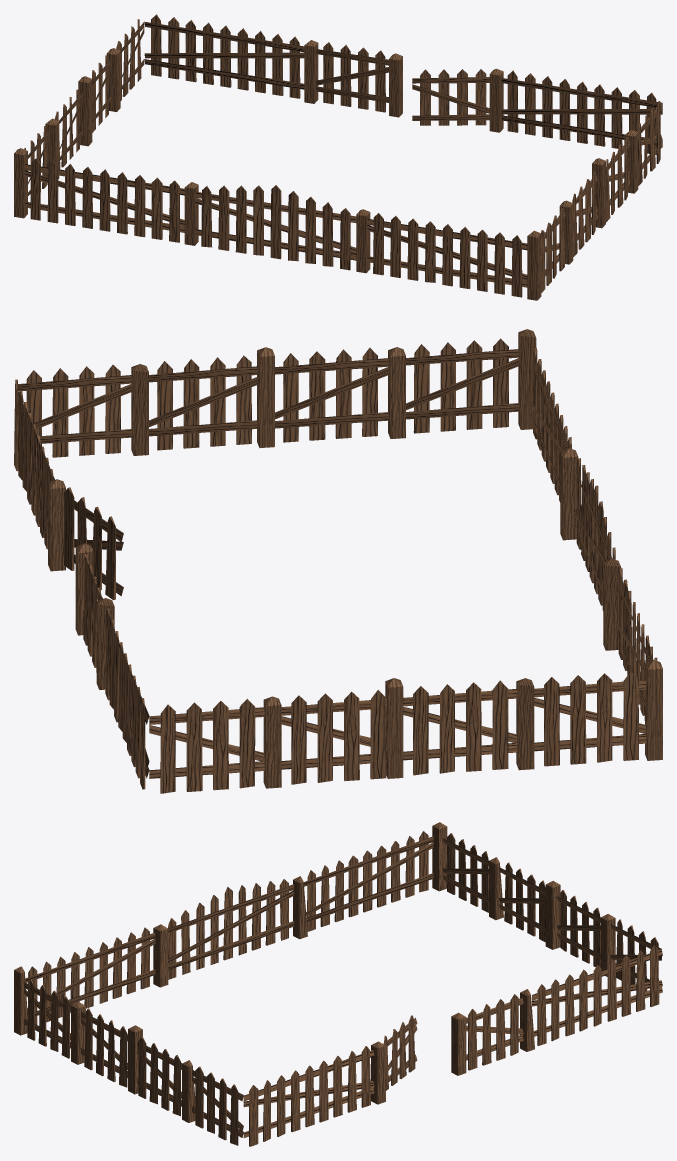
The model's file is FenceStyle1High.004_LOD1.fbx.
The picture shows the model from 3 angles, top to bottom: view 1: azimuth 30°, elevation 25°; view 2: azimuth 150°, elevation 25°; view 3: azimuth 270°, elevation 25°; orthographic projection. The views are drawn at different scales.
Visible parts, largest first — view 1: FenceStyle1High_004; view 2: FenceStyle1High_004; view 3: FenceStyle1High_004.
Boxes of the visible parts, left/top/right/bottom form: FenceStyle1High_004: left=14, top=14, right=662, bottom=300; FenceStyle1High_004: left=14, top=329, right=662, bottom=793; FenceStyle1High_004: left=14, top=822, right=662, bottom=1146.
Bounding box in the file's own units: 885 × 113 × 922.
1 material, 1 textured.
